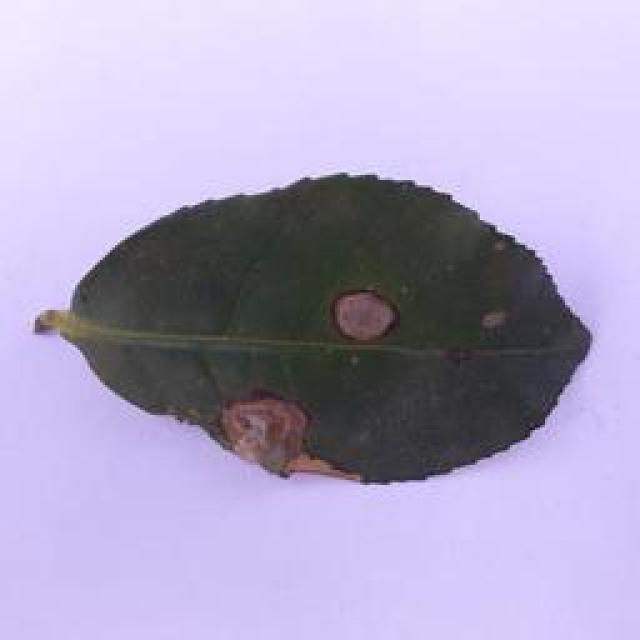Gray Blight: (36, 172, 597, 494)
